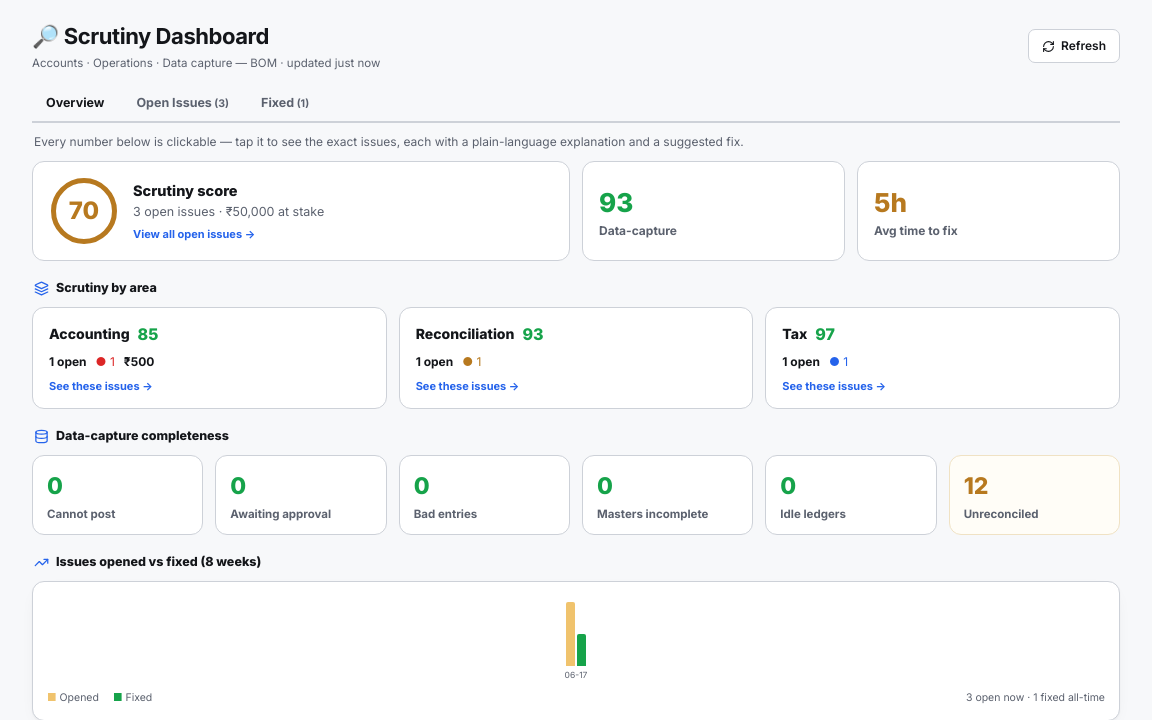
it: Scrutiny Dashboard › Open Issues tab groups alerts by domain; no Finish action
The image size is (1152, 720).
Click the button "Open Issues (3)".
click(183, 105)  # box [122, 86, 243, 123]
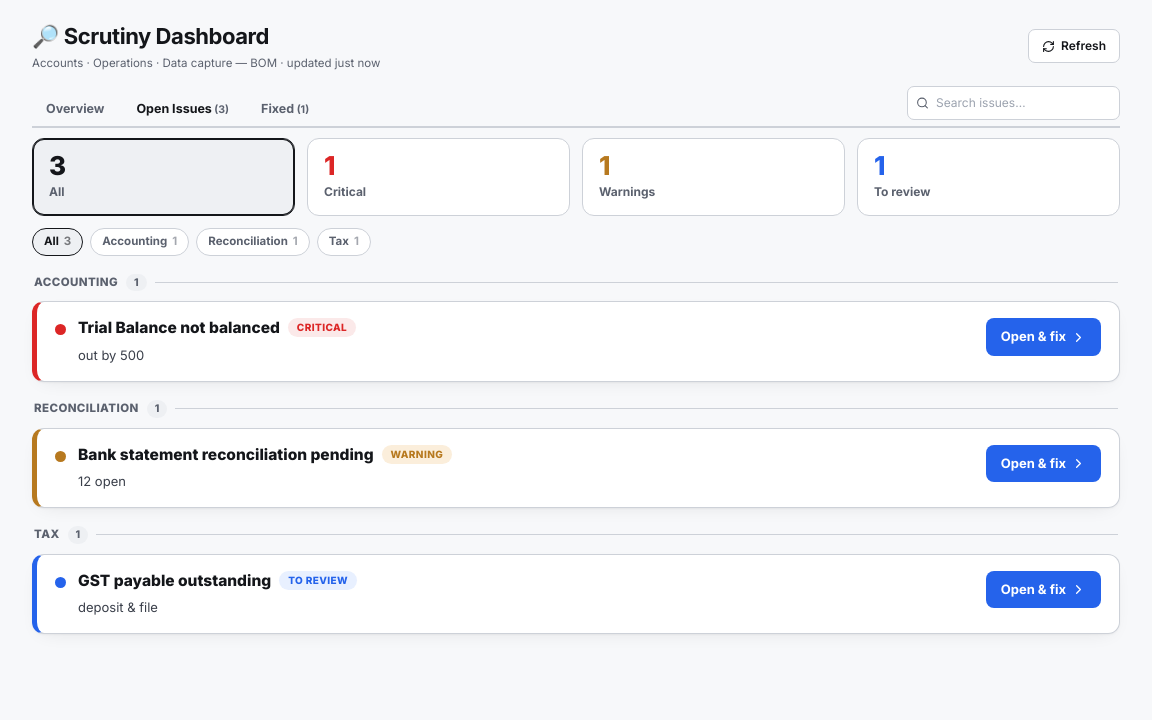
Result: the text "Trial Balance not balanced" is shown at [78, 318, 280, 338]
